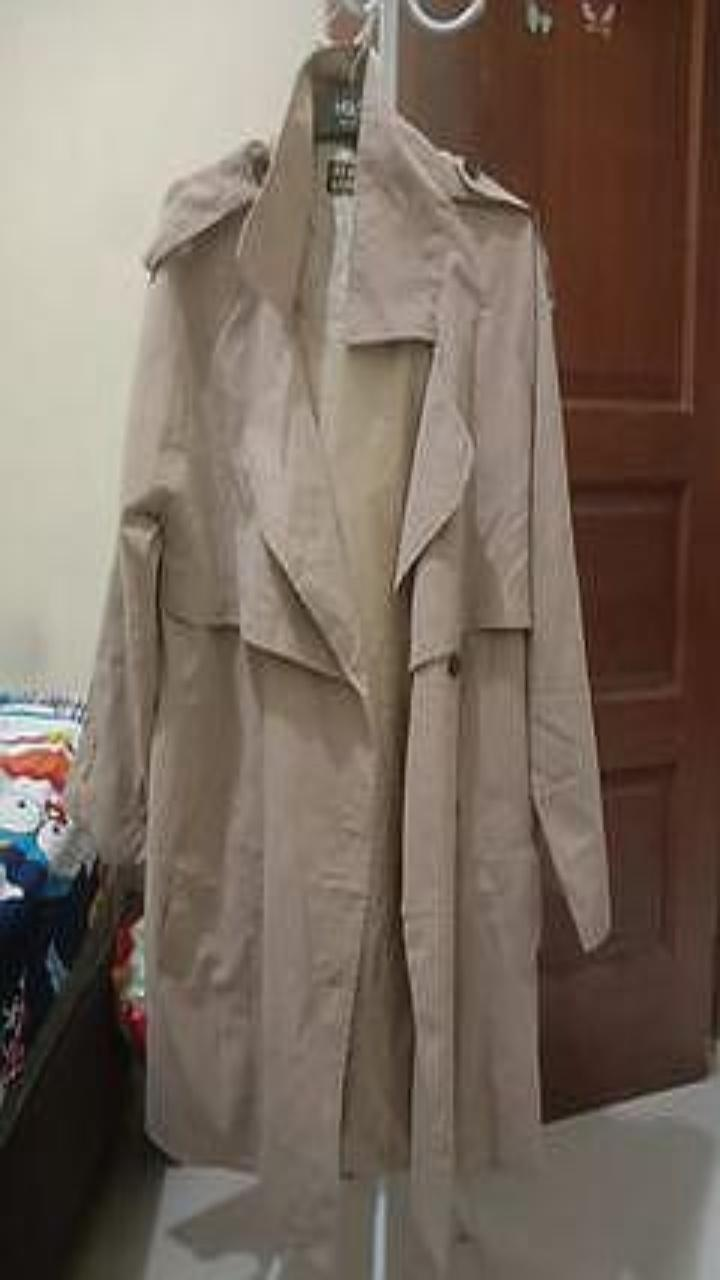Coat: (71, 49, 608, 1261)
